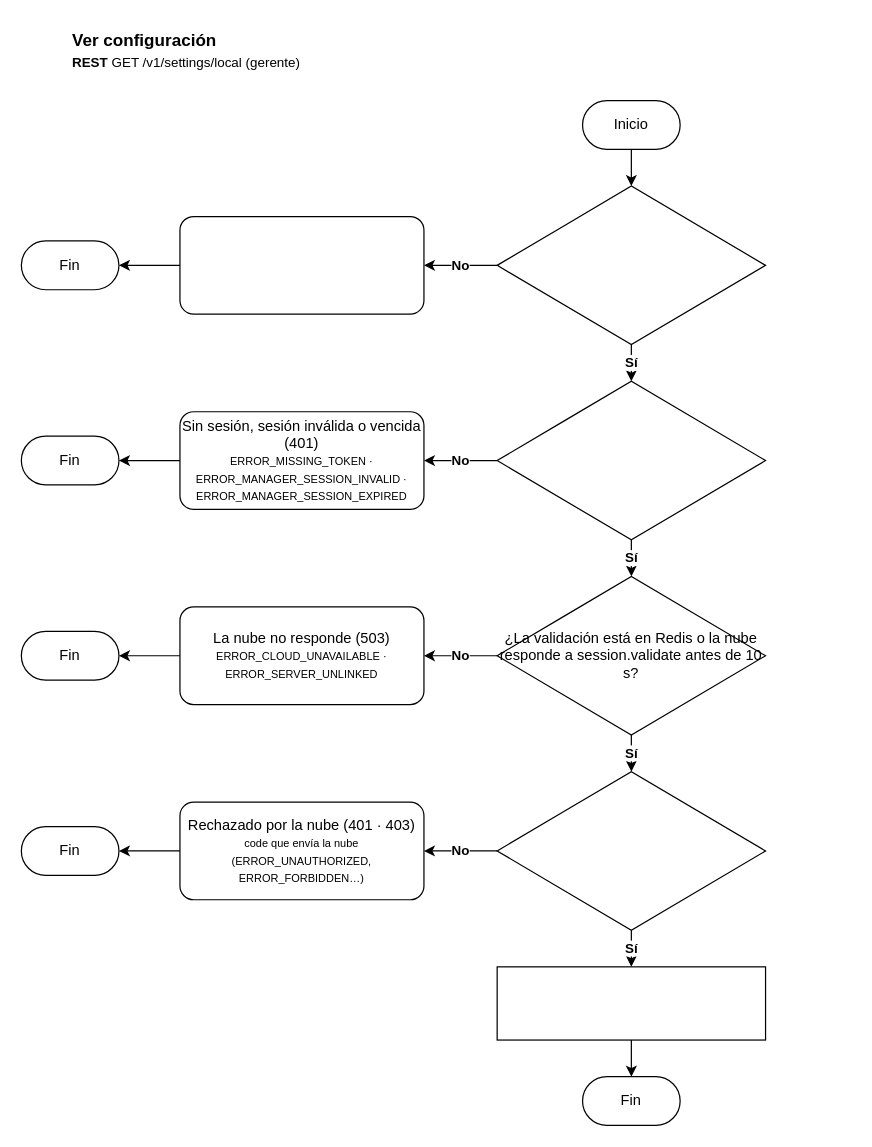
The diagram is 872 pixels wide and 1147 high, and some of its shapes have lost their labels. The box of each missing label's shape, as (x1, y1, x2, y2) in pixels:
Responder 200 con el mensaje SETTINGS_RETRIEVED: (496, 966, 766, 1040)
Servidor sin emparejar (409) ERROR_SERVER_NOT_PAIRED: (179, 215, 424, 314)
¿El servidor ya se emparejó alguna vez (pairing_status distinto de unpaired)?: (496, 185, 766, 345)
¿La nube acepta la sesión del gerente con este servidor?: (496, 770, 766, 930)
¿Trae una sesión de gerente válida (Bearer mss_..., sin 30 min de inactividad)?: (496, 380, 766, 540)
